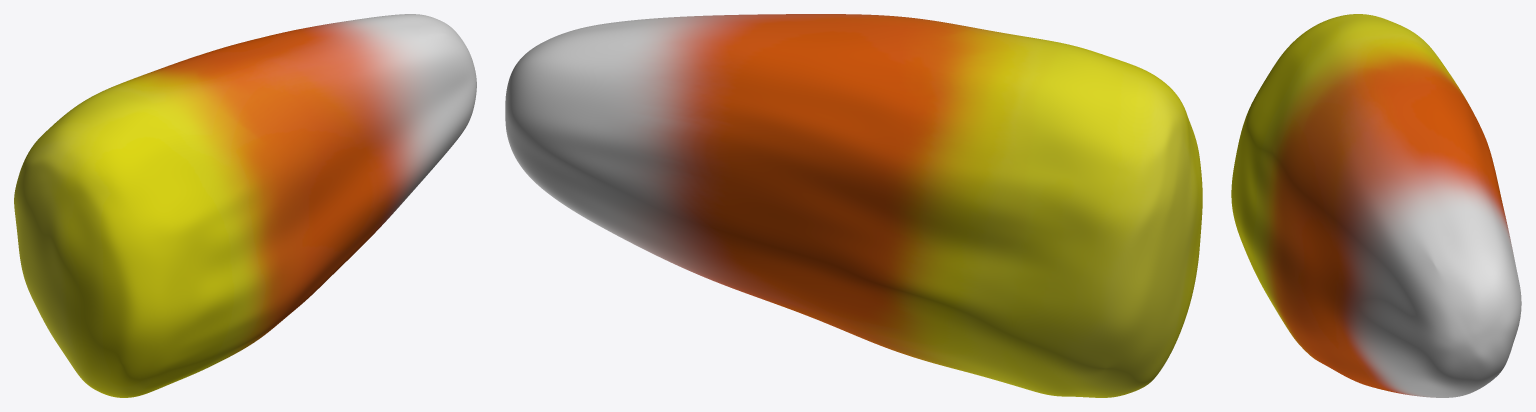
Rendered from candy_corn.glb.
The picture shows the model from 3 angles, left to right: view 1: azimuth 30°, elevation 25°; view 2: azimuth 150°, elevation 25°; view 3: azimuth 270°, elevation 25°; orthographic projection. The views are drawn at different scales.
Parts seen in each view (by area): view 1: Object_4, Object_5; view 2: Object_4, Object_5; view 3: Object_4, Object_5.
Boxes of the visible parts, box(x1,y1,x2,y2) form: Object_4: box(14, 14, 476, 373); Object_5: box(27, 22, 447, 397); Object_4: box(505, 26, 1202, 374); Object_5: box(586, 14, 1184, 397); Object_4: box(1231, 76, 1521, 397); Object_5: box(1263, 14, 1455, 314).
Bounding box in the file's own units: 1.68 × 0.9234 × 0.8005.
